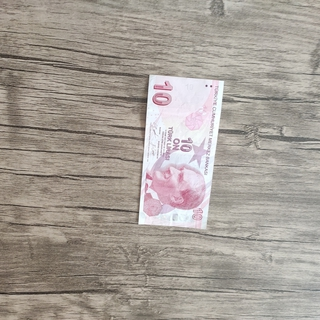10TLFront: (137, 73, 225, 231)
